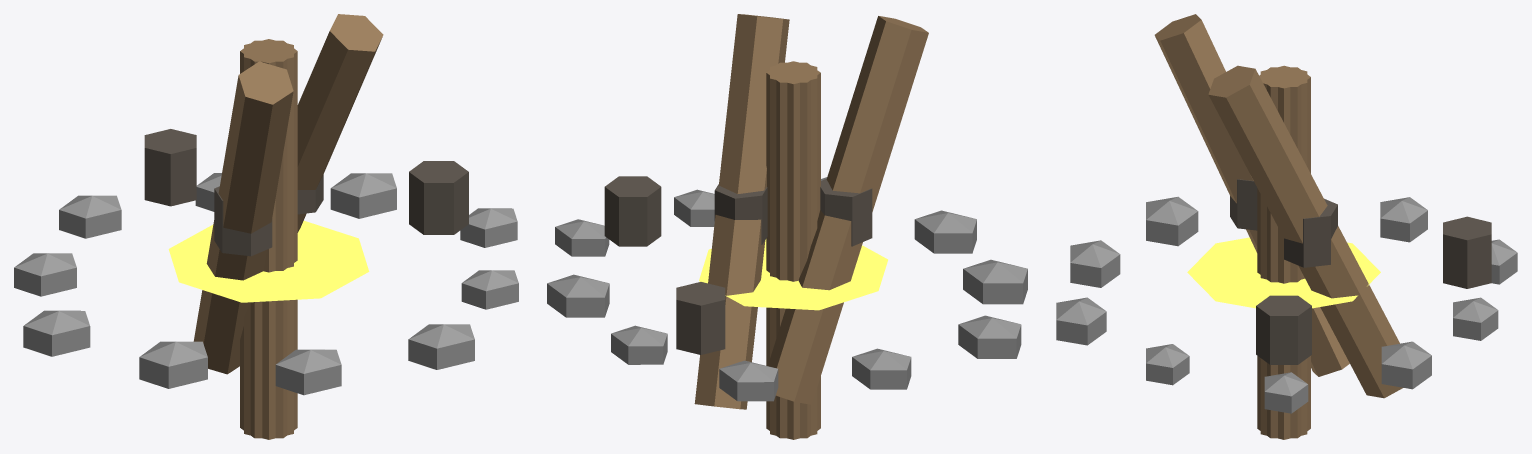
File: campfire.glb
3 views of the same model, side by side, from view 1: azimuth 30°, elevation 25°; view 2: azimuth 150°, elevation 25°; view 3: azimuth 270°, elevation 25° (orthographic). The views are drawn at different scales.
Visible parts, largest first — view 1: Campfire; view 2: Campfire; view 3: Campfire.
Boxes of the visible parts, bbox=[...] form: Campfire: bbox=[14, 14, 518, 439]; Campfire: bbox=[547, 14, 1027, 439]; Campfire: bbox=[1056, 14, 1517, 439].
Size of the model in its own units: 0.9789 by 0.7874 by 0.8563.
